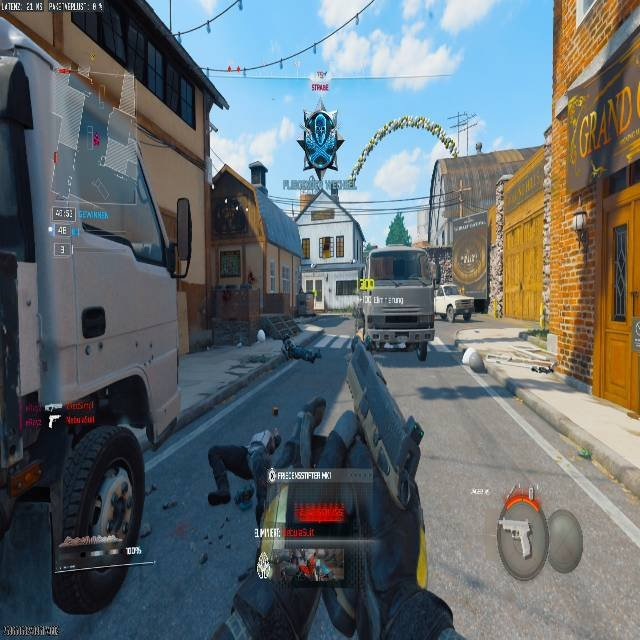player: (207, 394, 328, 507), (297, 105, 344, 202)
